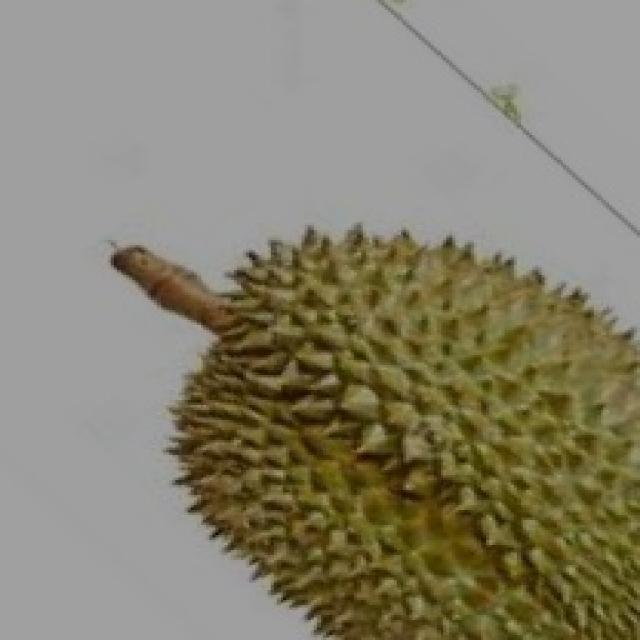fruit: (126, 202, 468, 638)
